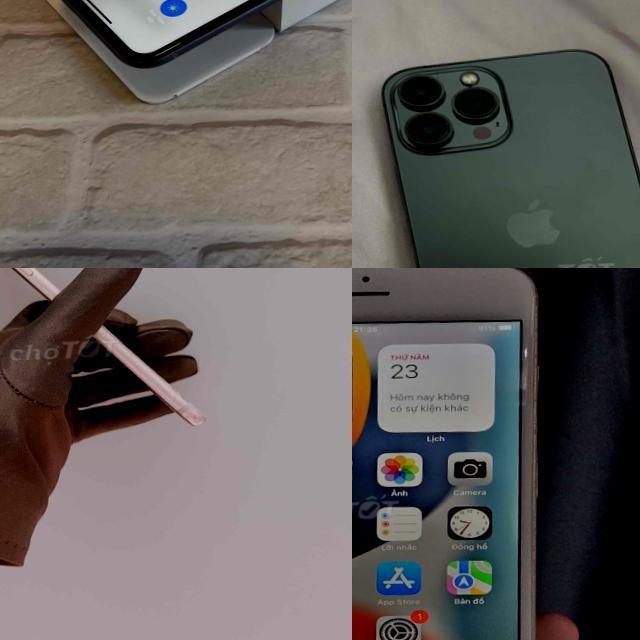scratch: (156, 388, 210, 431), (92, 323, 136, 347)
